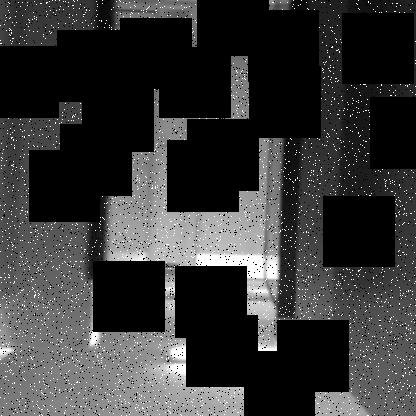Porte: (81, 0, 314, 320)
